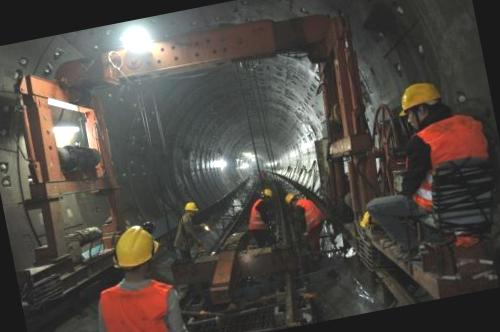helmet: (112, 222, 165, 271), (397, 76, 441, 112), (182, 196, 200, 212), (280, 190, 296, 202), (262, 188, 275, 199)
person: (336, 70, 500, 275), (73, 212, 201, 332), (282, 185, 332, 252), (168, 200, 212, 264), (242, 186, 284, 249)
